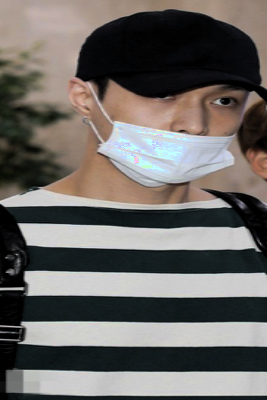mask_weared_incorrect: (91, 86, 246, 184)
